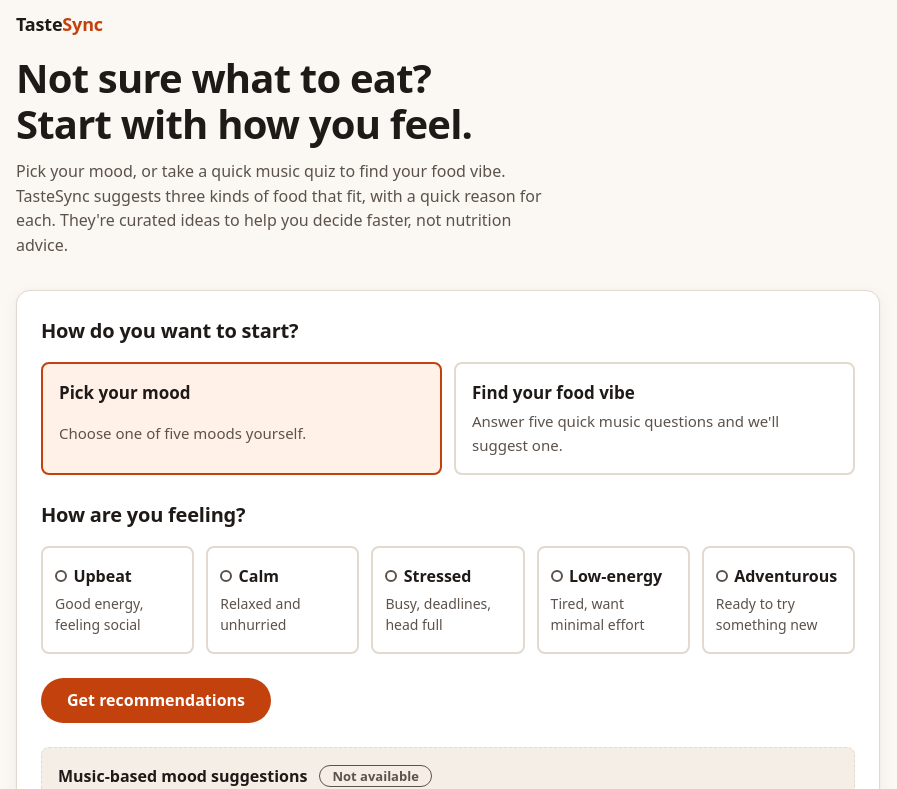
it: Google restaurant search › searches any city and shows names, addresses, Google Maps links, and attribution
Click the radio button labelled "Calm".
click(283, 600)  # box [206,546,359,654]
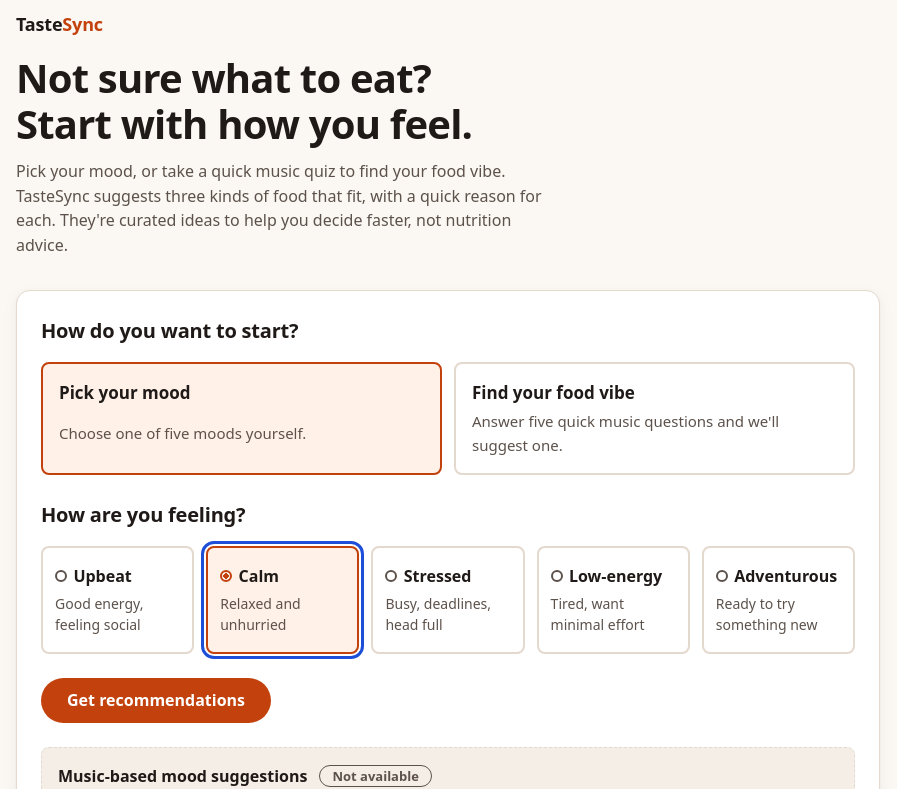
Click the button "Get recommendations".
click(156, 700)  # box [41,678,271,723]
(page scrolled)
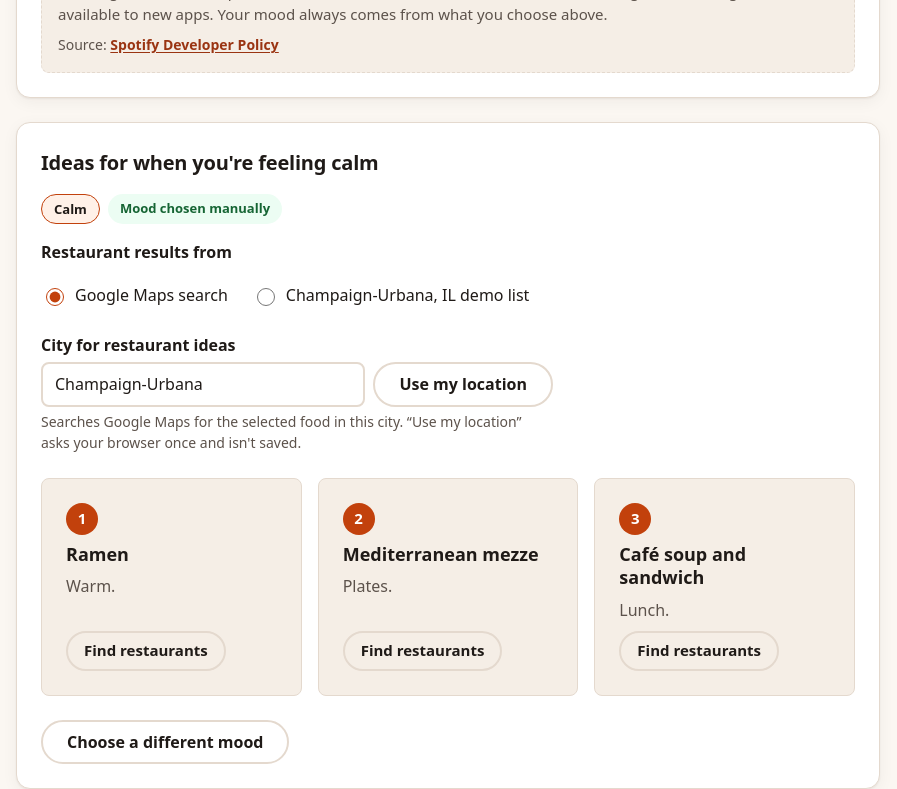
Expected: the heading "Ideas for when you're feeling calm" is shown, [41,149,378,176]
Replace the text in the field labelled "City for restaurant ideas" with "Chicago, IL" at (203, 384), box [41,362,365,407]
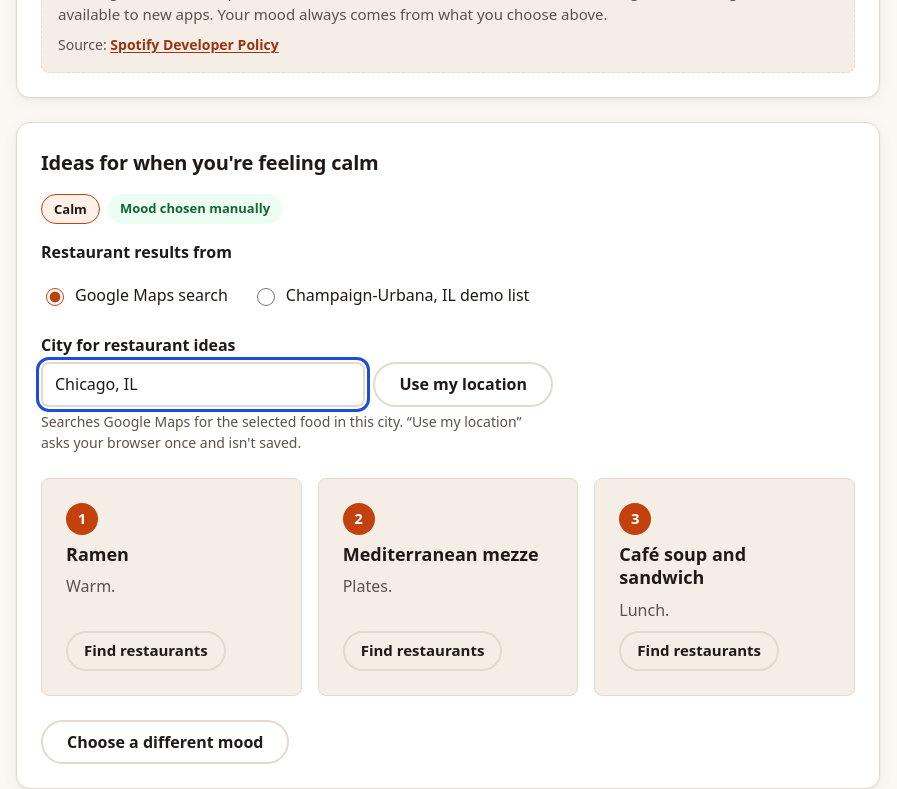
Click the button with aria-label "Find restaurants for Ramen".
click(146, 651)  # box [66,631,226,671]
(page scrolled)
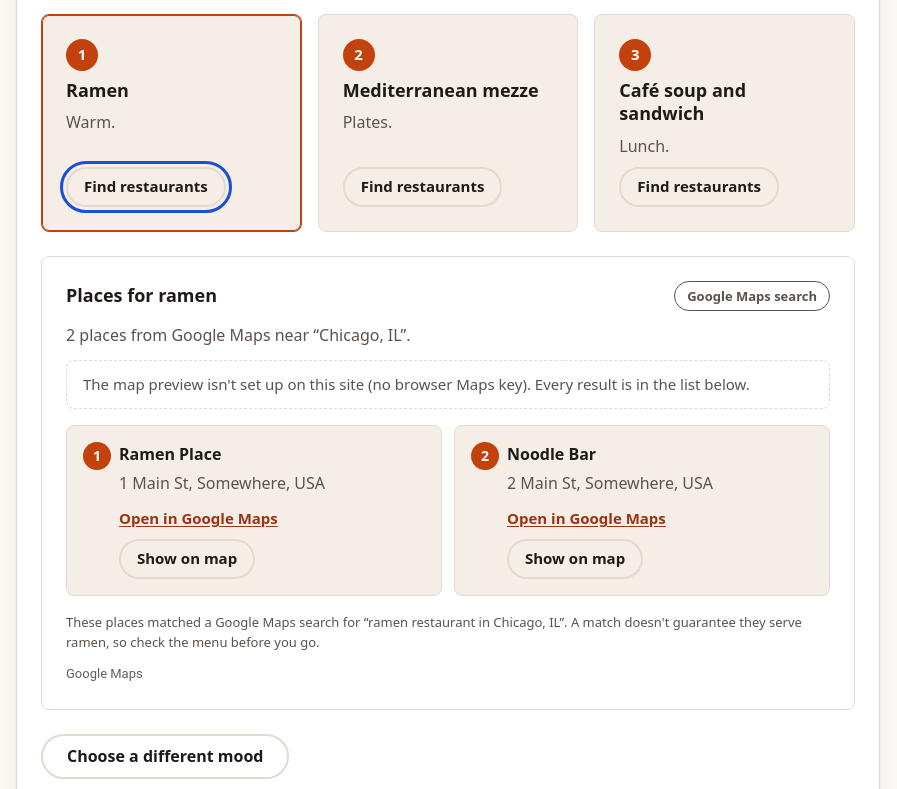
Expected: the text "Ramen Place" is shown, [119,443,221,465]
Expected: the text "Google Maps search" is shown, [674,281,830,311]
Expected: the text "2 places from Google Maps near “Chicago, IL”." is shown, [66,324,410,346]
